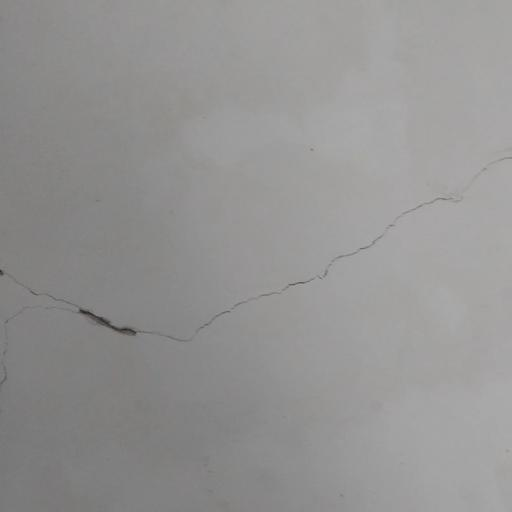minor_crack: (0, 143, 512, 403)
